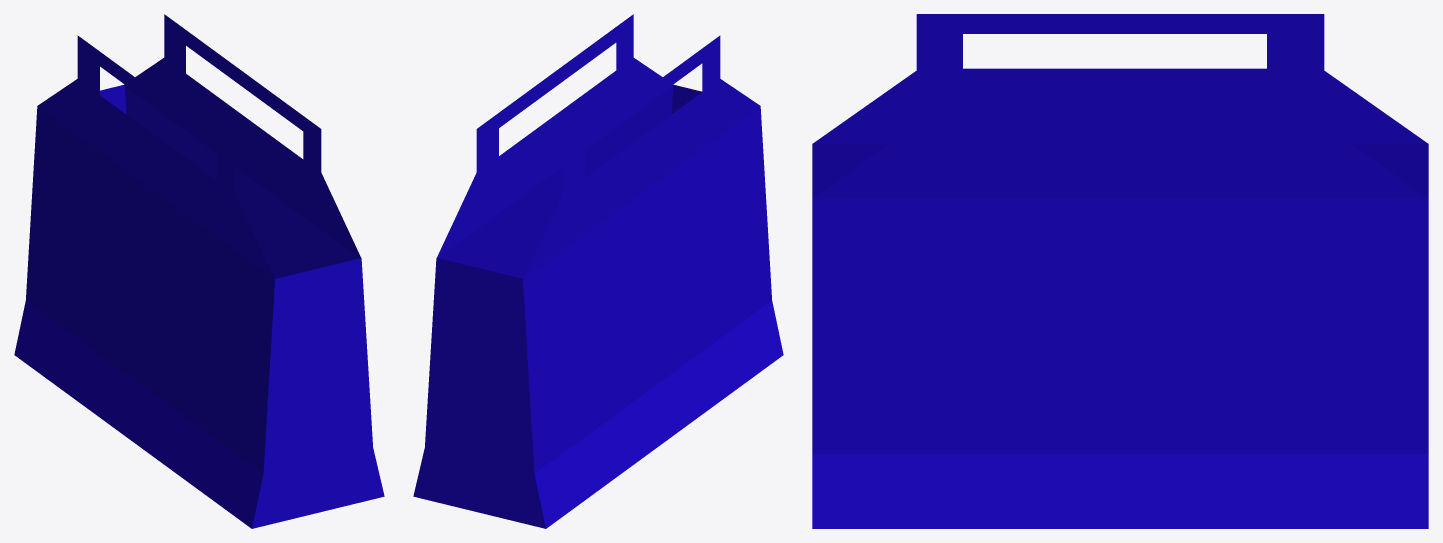
Rendered from Loja.glb.
3 views of the same model, side by side, from view 1: azimuth 30°, elevation 25°; view 2: azimuth 150°, elevation 25°; view 3: azimuth 270°, elevation 25° (orthographic). The views are drawn at different scales.
Visible parts, largest first — view 1: MatSaco; view 2: MatSaco; view 3: MatSaco.
Boxes of the visible parts, left/top/right/bottom form: MatSaco: left=14, top=14, right=384, bottom=528; MatSaco: left=413, top=14, right=783, bottom=528; MatSaco: left=812, top=14, right=1428, bottom=528.
Bounding box in the file's own units: 0.407 × 1.01 × 1.26.
